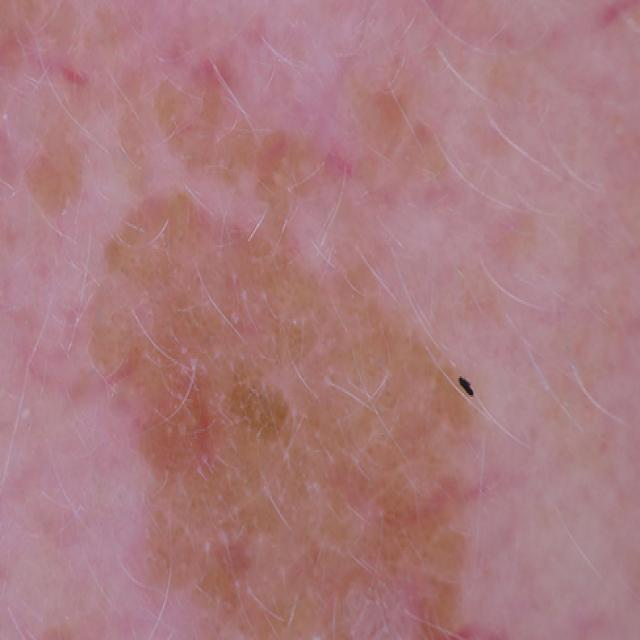Keratosis: (92, 125, 562, 640)
